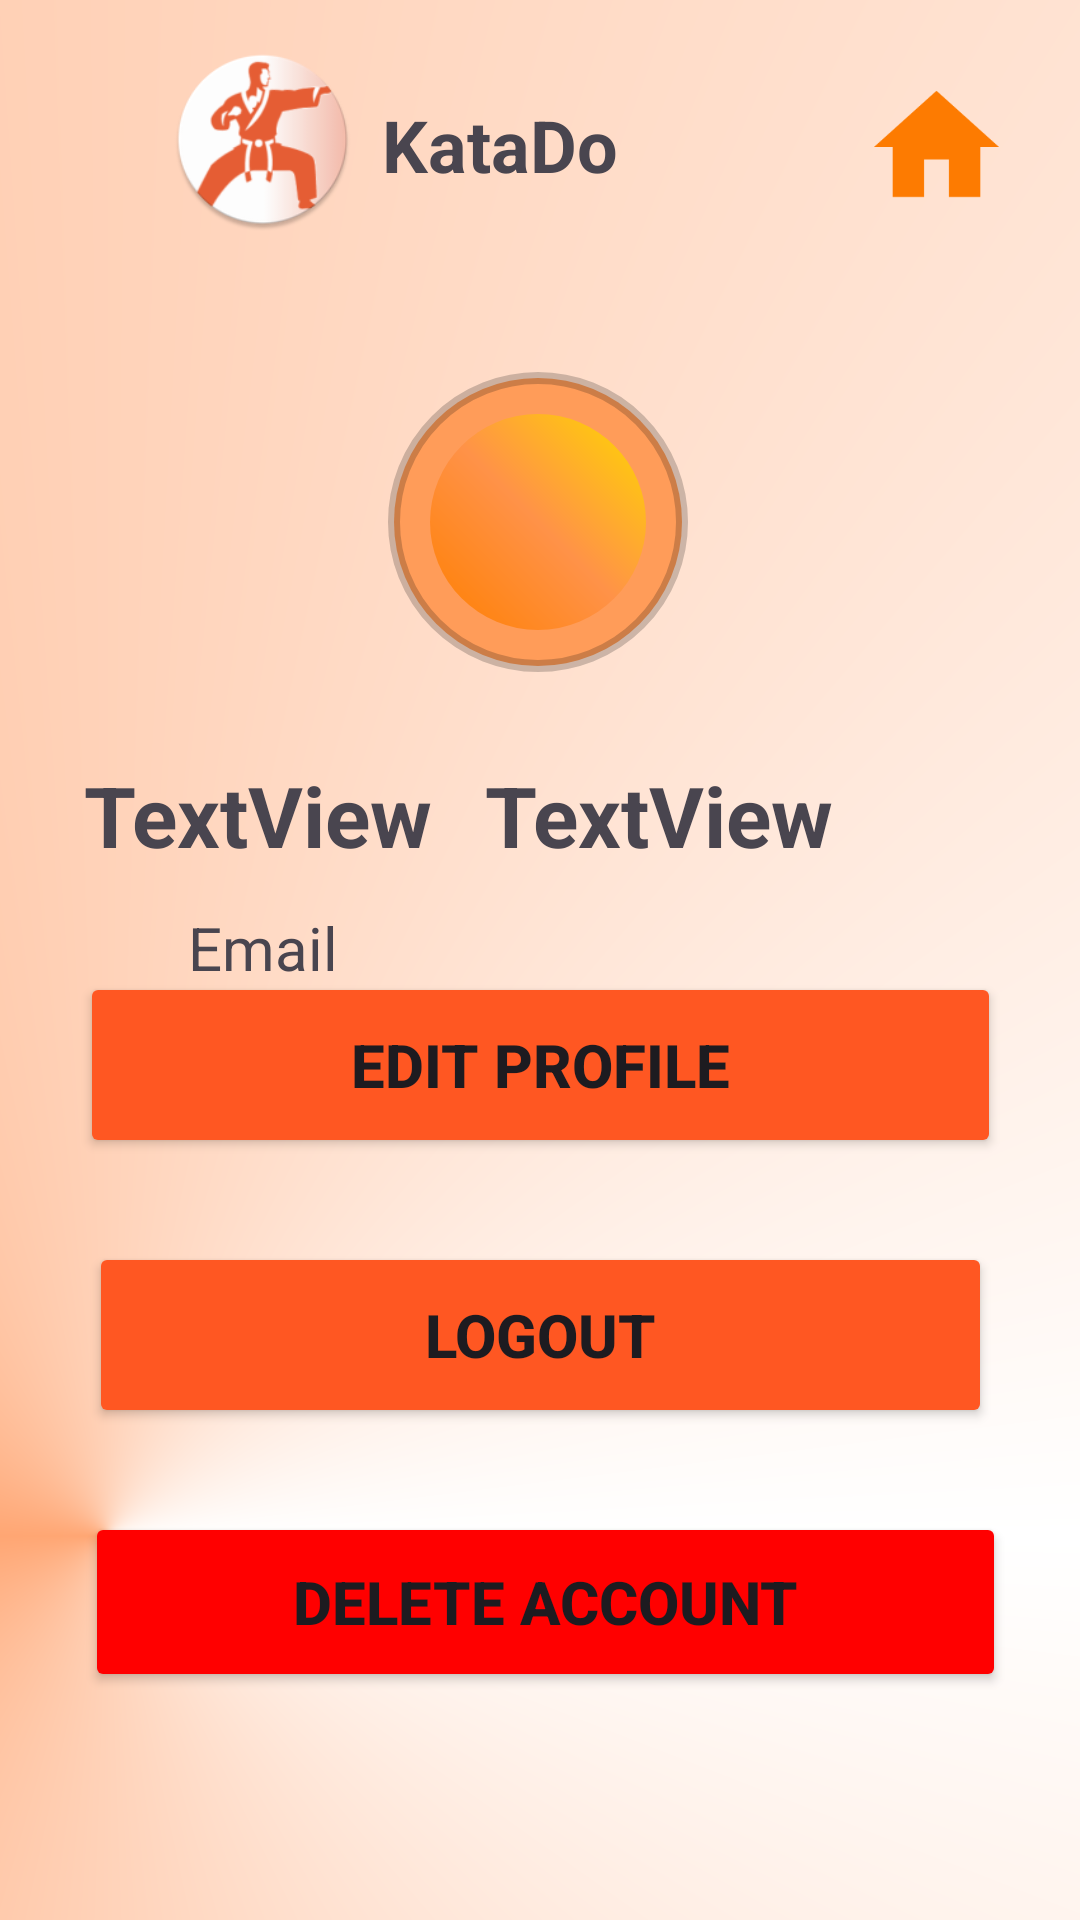

Screen size 1080 x 1920. Icon name, then its box in pixels as (x1, y1, x2, y2):
home: (874, 91, 999, 198)
